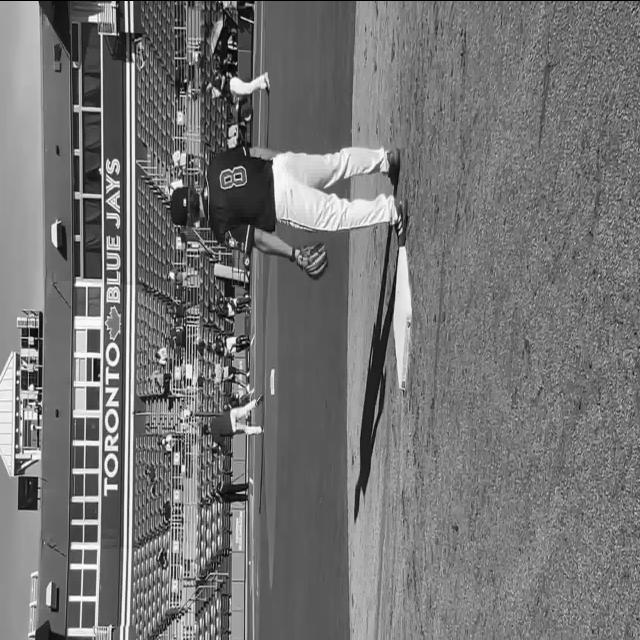base: (394, 244, 412, 389)
baseball_glove: (296, 242, 328, 280)
shoe: (394, 195, 408, 247), (388, 147, 400, 184)
